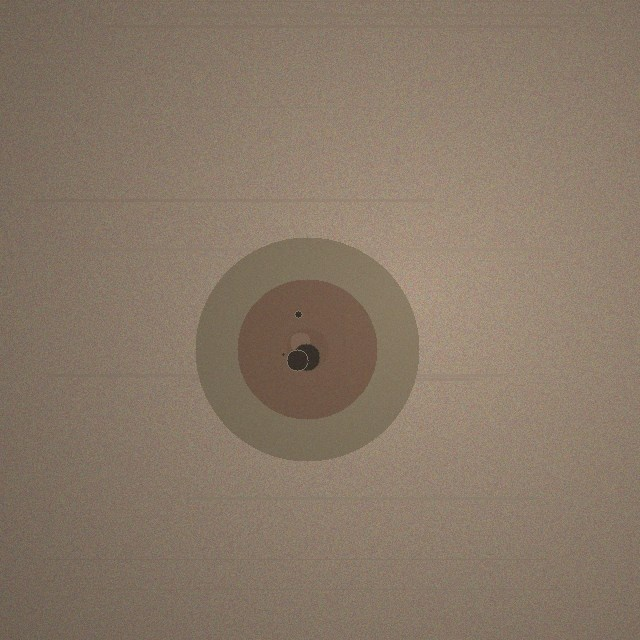shrinkage: (195, 237, 419, 461)
